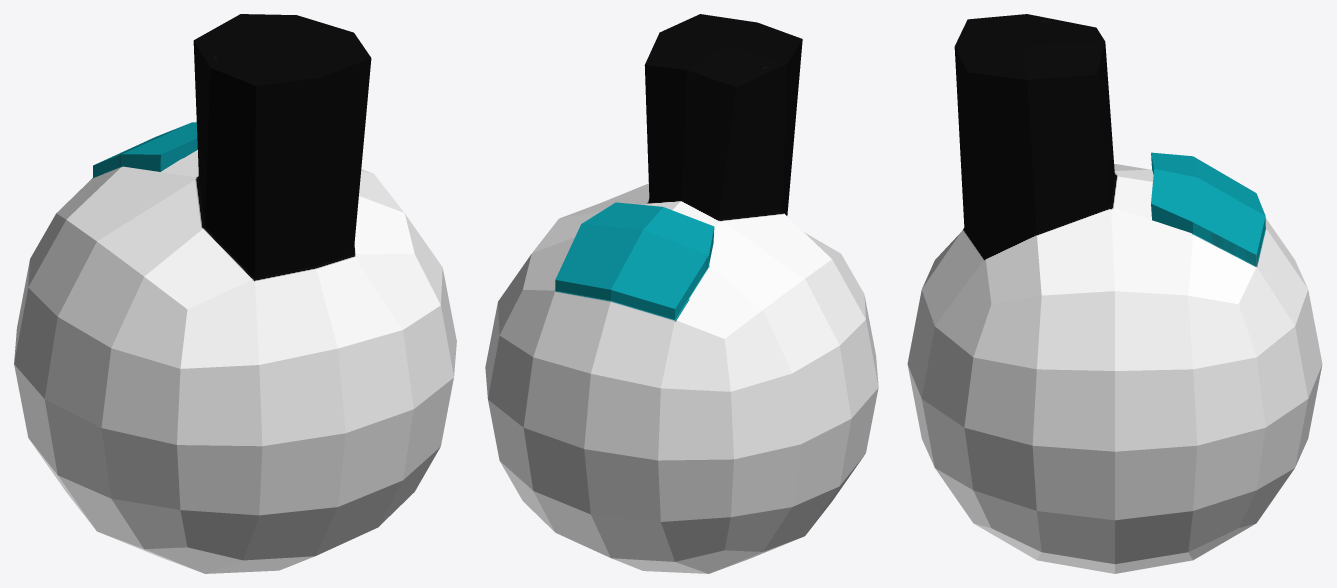
Rendered from rbsDroneNew.fbx.
3 views of the same model, side by side, from view 1: azimuth 30°, elevation 25°; view 2: azimuth 150°, elevation 25°; view 3: azimuth 270°, elevation 25° (orthographic). The views are drawn at different scales.
Visible parts, largest first — view 1: Cube; view 2: Cube; view 3: Cube.
Part boxes in pixels (bbox=[...]): Cube: bbox=[14, 14, 456, 573]; Cube: bbox=[485, 14, 878, 573]; Cube: bbox=[907, 14, 1322, 573].
Size of the model in its own units: 168 by 228 by 168.
